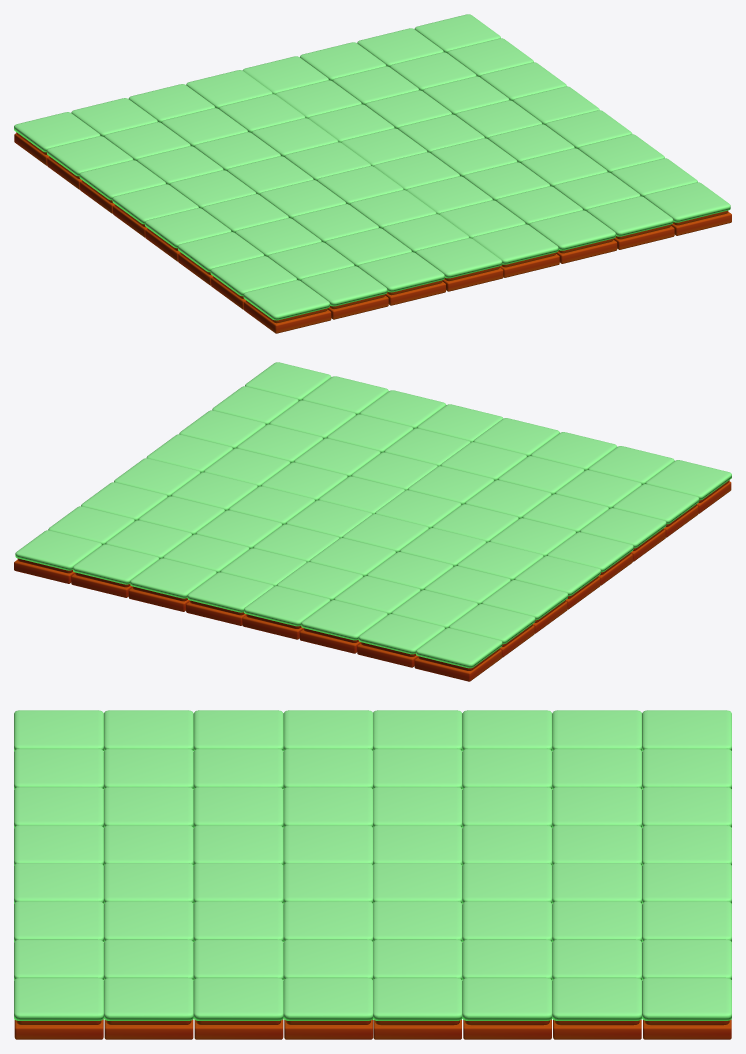
The model's file is floorpad_green_large.glb.
3 renders of one model, top to bottom at view 1: azimuth 30°, elevation 25°; view 2: azimuth 150°, elevation 25°; view 3: azimuth 270°, elevation 25°, orthographic. The views are drawn at different scales.
Visible parts, largest first — view 1: Floorpad Green.003; view 2: Floorpad Green.003; view 3: Floorpad Green.003.
Part boxes in pixels (box(x1,y1,x2,y2)): Floorpad Green.003: box(14, 14, 731, 333); Floorpad Green.003: box(14, 362, 731, 681); Floorpad Green.003: box(14, 710, 731, 1039).
Bounding box in the file's own units: 8.9 × 0.3474 × 8.83.
1 material, 1 textured.
